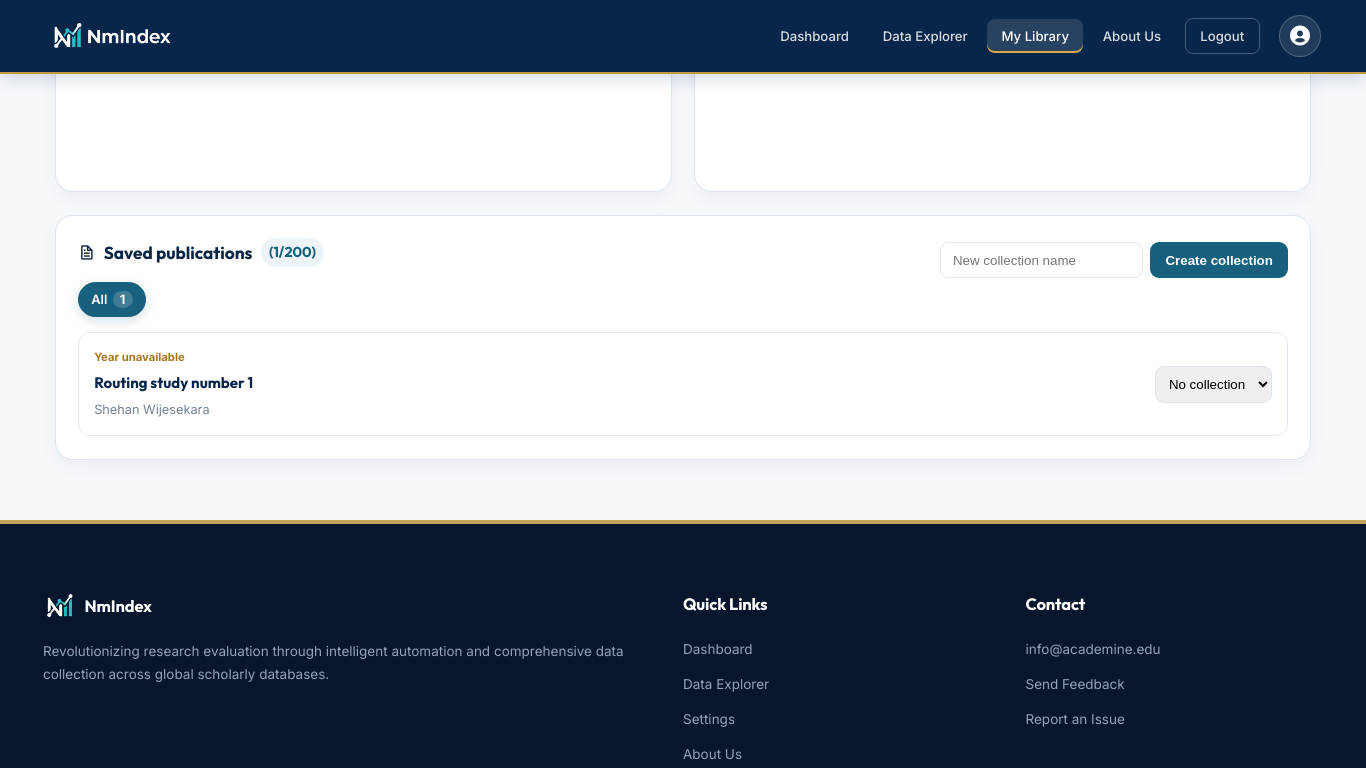
Test case: incomplete metadata is shown gracefully
(page scrolled)
Click the button "Year unavailable Routing study number 1 Shehan Wijesekara" at (139, 357), box [94,348,1140,420]
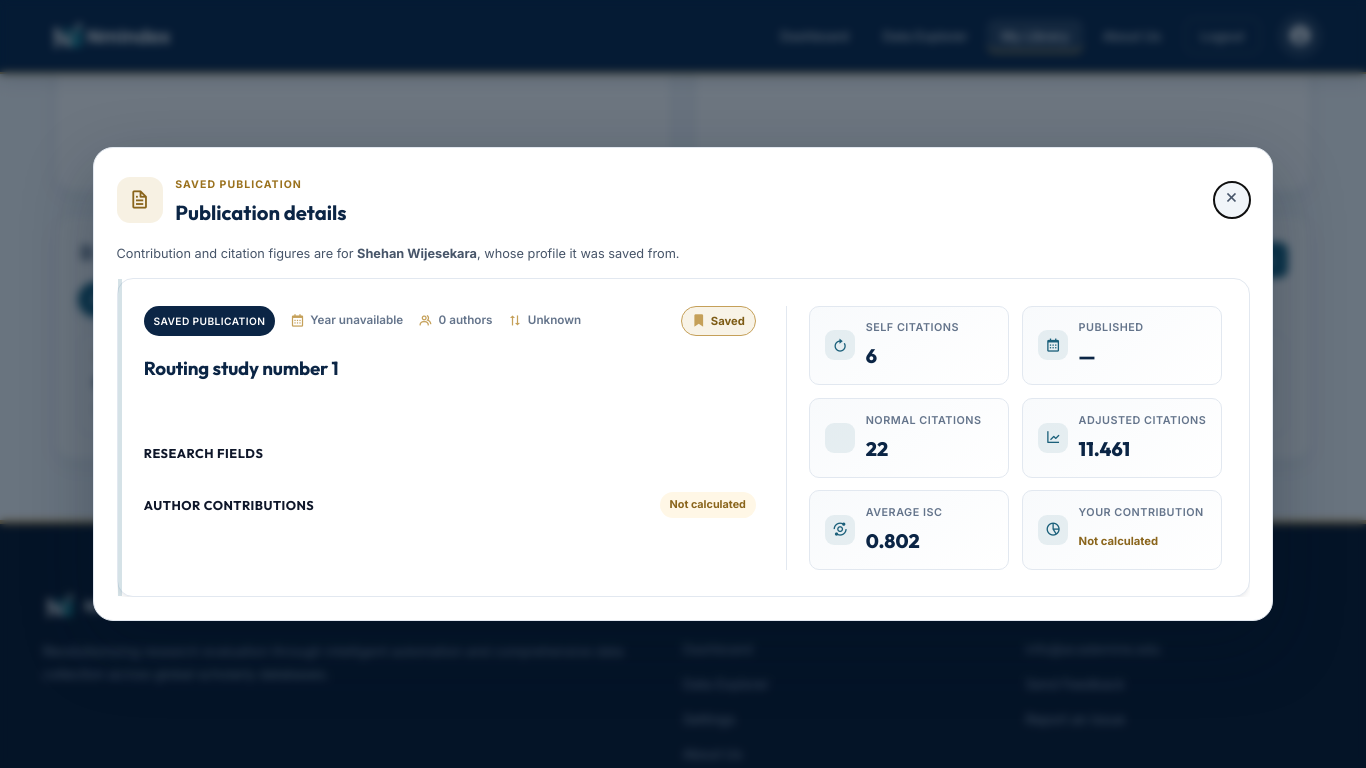
Expected: the text "Year unavailable" is shown, [290,313,403,328]
Expected: the text "0 authors" is shown, [418,313,493,328]
Expected: the text "Not calculated" in the row of "Author contributions" is shown, [670,498,746,511]
